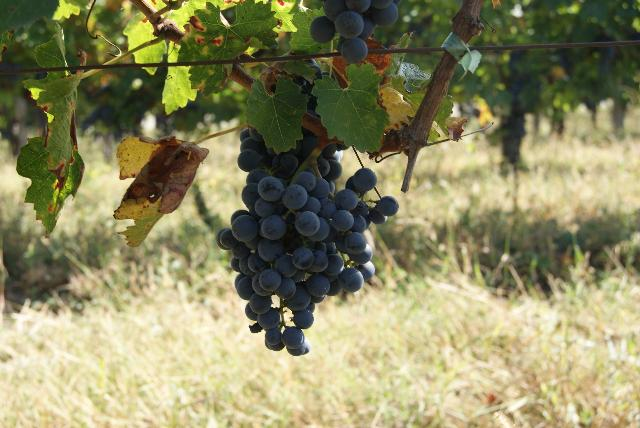grapes: (218, 149, 399, 355)
